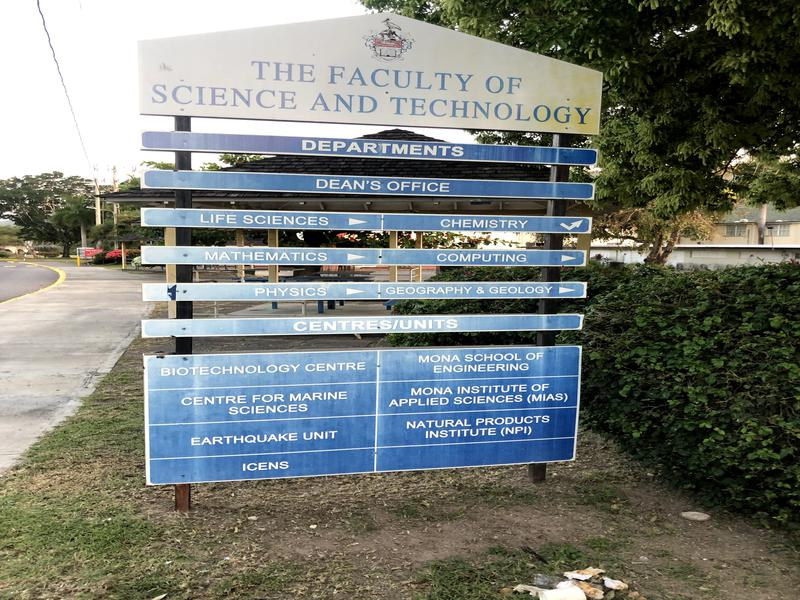18.0055634_-76.7484079_scitechsign: (126, 6, 620, 492)
